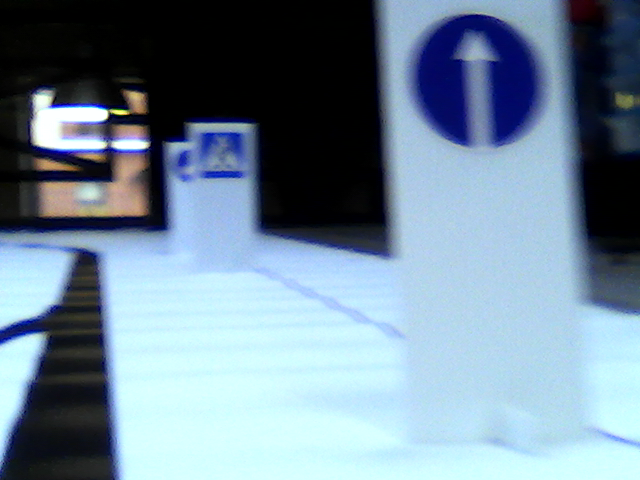forw: (411, 19, 551, 149)
pesh: (200, 131, 247, 180)
